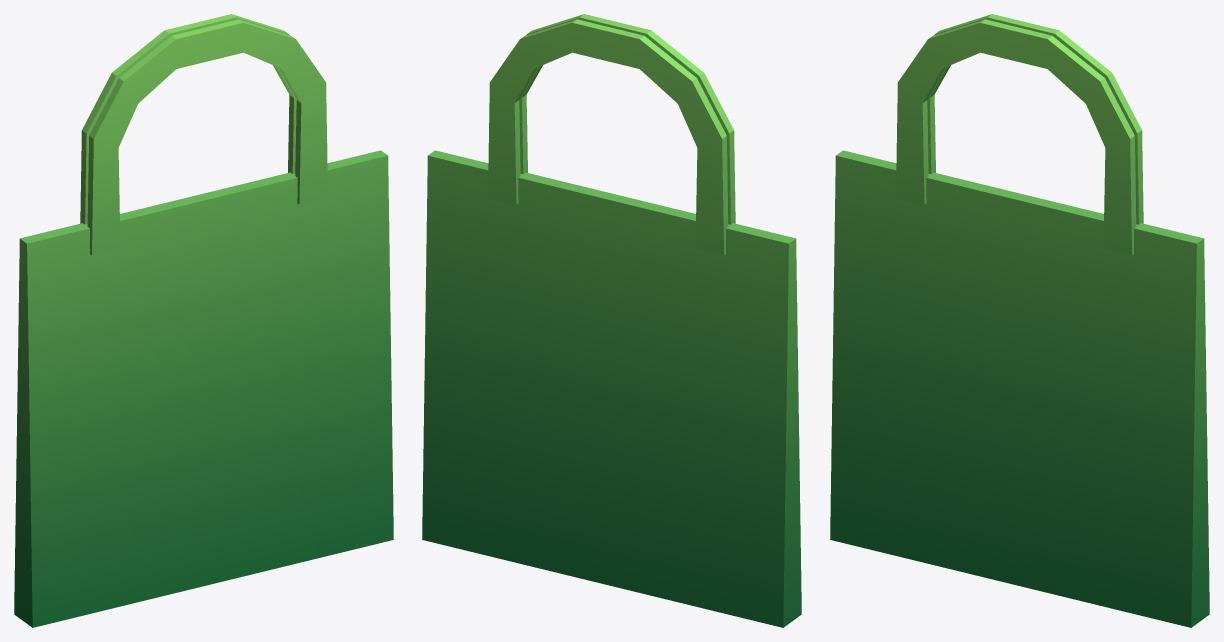
Rendered from Bag.fbx.
3 renders of one model, left to right at view 1: azimuth 30°, elevation 25°; view 2: azimuth 150°, elevation 25°; view 3: azimuth 330°, elevation 25°, orthographic.
Parts seen in each view (by area): view 1: Bag; view 2: Bag; view 3: Bag.
Boxes of the visible parts, x1,y1,x2,y2 form: Bag: (14, 14, 393, 627); Bag: (422, 14, 801, 627); Bag: (830, 14, 1209, 627).
Size of the model in its own units: 69.6 by 6.18 by 101.
